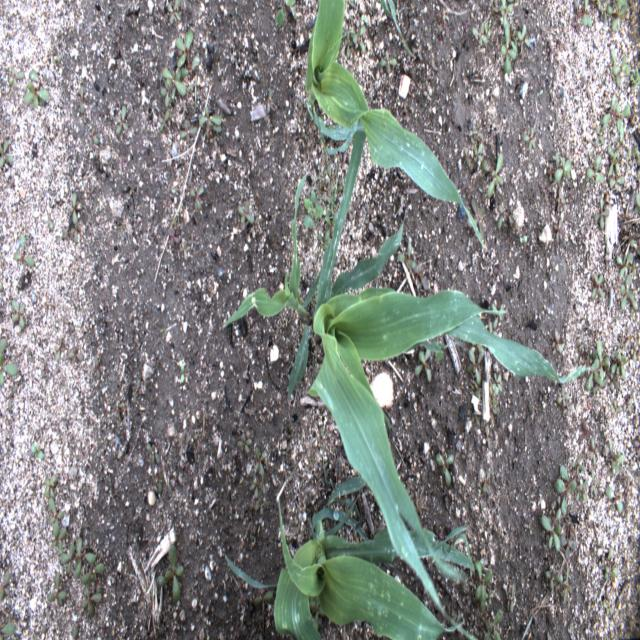crop: (221, 114, 594, 638), (304, 0, 487, 248), (223, 474, 474, 638)
weed: (554, 451, 584, 518), (59, 537, 97, 580), (174, 30, 200, 89), (158, 545, 184, 603), (586, 340, 610, 391), (602, 98, 630, 140), (0, 336, 20, 389), (481, 154, 504, 200), (302, 187, 325, 230), (198, 104, 222, 145), (23, 71, 48, 110), (161, 68, 188, 104), (608, 46, 632, 86), (474, 559, 492, 611), (541, 508, 562, 550), (501, 23, 517, 78), (468, 195, 487, 240), (545, 152, 574, 181), (464, 343, 484, 384), (82, 562, 104, 598), (435, 448, 455, 487), (619, 274, 638, 313), (47, 571, 66, 609), (80, 587, 103, 618), (13, 234, 35, 266), (252, 580, 274, 612), (274, 0, 298, 29), (603, 486, 623, 520), (414, 348, 433, 383), (585, 153, 605, 185), (481, 610, 503, 639), (48, 500, 66, 535), (66, 192, 84, 226), (574, 0, 595, 28), (498, 0, 514, 36), (51, 525, 68, 558), (610, 347, 626, 382), (594, 201, 610, 232), (114, 100, 129, 133), (234, 428, 253, 454), (473, 19, 491, 46), (378, 51, 398, 75), (589, 272, 605, 302), (614, 252, 633, 277), (237, 199, 255, 225), (144, 441, 162, 467), (178, 122, 200, 142), (351, 25, 366, 54), (607, 147, 622, 176), (253, 446, 267, 477), (518, 23, 532, 54), (0, 139, 12, 173), (42, 475, 57, 502), (8, 68, 25, 91), (12, 299, 24, 330), (166, 2, 181, 24), (0, 620, 18, 638), (496, 204, 508, 230), (158, 110, 170, 134), (160, 82, 172, 105), (1, 571, 10, 601), (30, 444, 44, 463)
